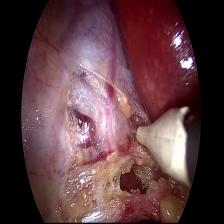Hook: (132, 106, 196, 188)
